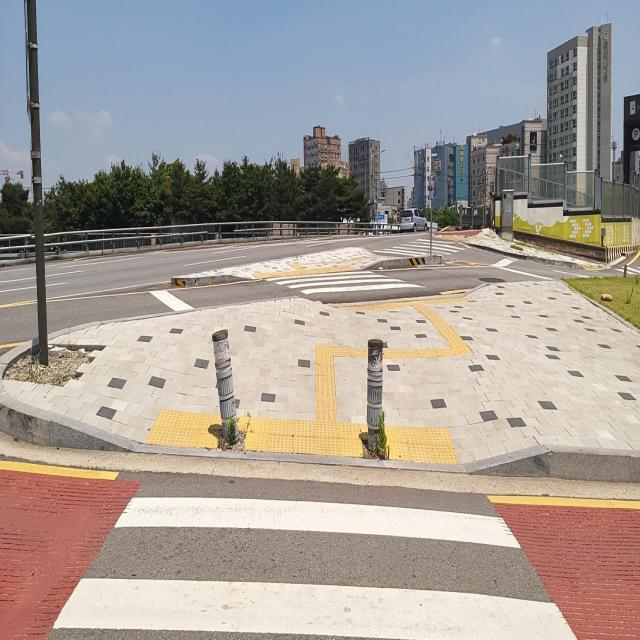횡단보도: (51, 493, 580, 640), (263, 272, 428, 300), (371, 222, 475, 260)
